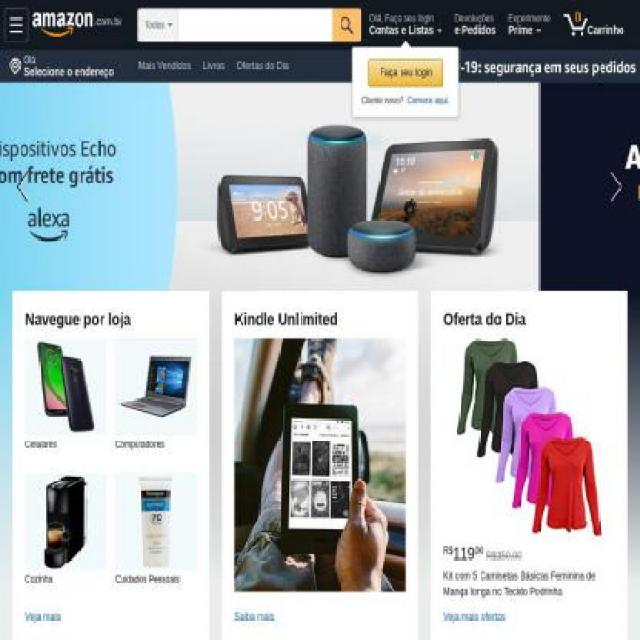button: (234, 338, 406, 592), (443, 338, 615, 538), (0, 81, 51, 292), (590, 82, 639, 292), (390, 50, 639, 84), (25, 338, 107, 436), (115, 338, 197, 436), (25, 473, 107, 570), (115, 473, 197, 570), (32, 4, 134, 45), (7, 51, 121, 83), (363, 5, 448, 47), (4, 8, 122, 38), (557, 5, 638, 47), (25, 608, 197, 624), (234, 608, 406, 624), (443, 608, 615, 624), (448, 5, 502, 47), (502, 5, 556, 47), (368, 59, 444, 87), (229, 128, 313, 150), (133, 92, 218, 113), (133, 165, 210, 187), (132, 128, 197, 150), (133, 55, 196, 77), (232, 55, 294, 77), (305, 92, 363, 113), (218, 92, 271, 113), (4, 8, 28, 41), (198, 55, 230, 77), (271, 92, 304, 113), (198, 128, 228, 150)
field: (178, 8, 333, 41), (332, 8, 360, 41)
